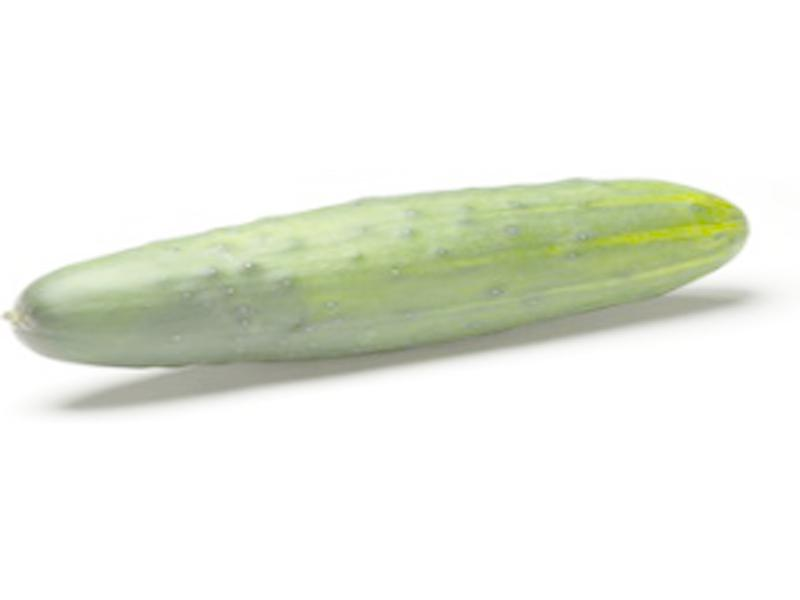Cucumber: (3, 177, 746, 373)
